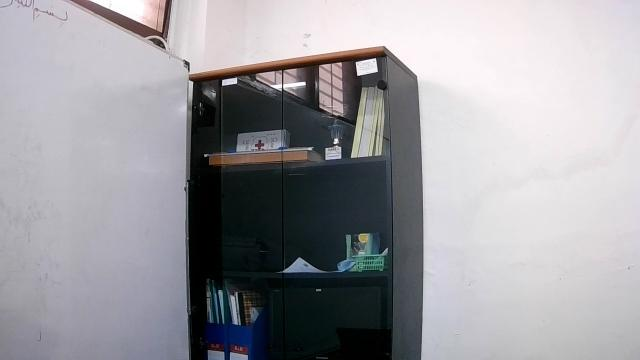Rak: (185, 45, 423, 359)
